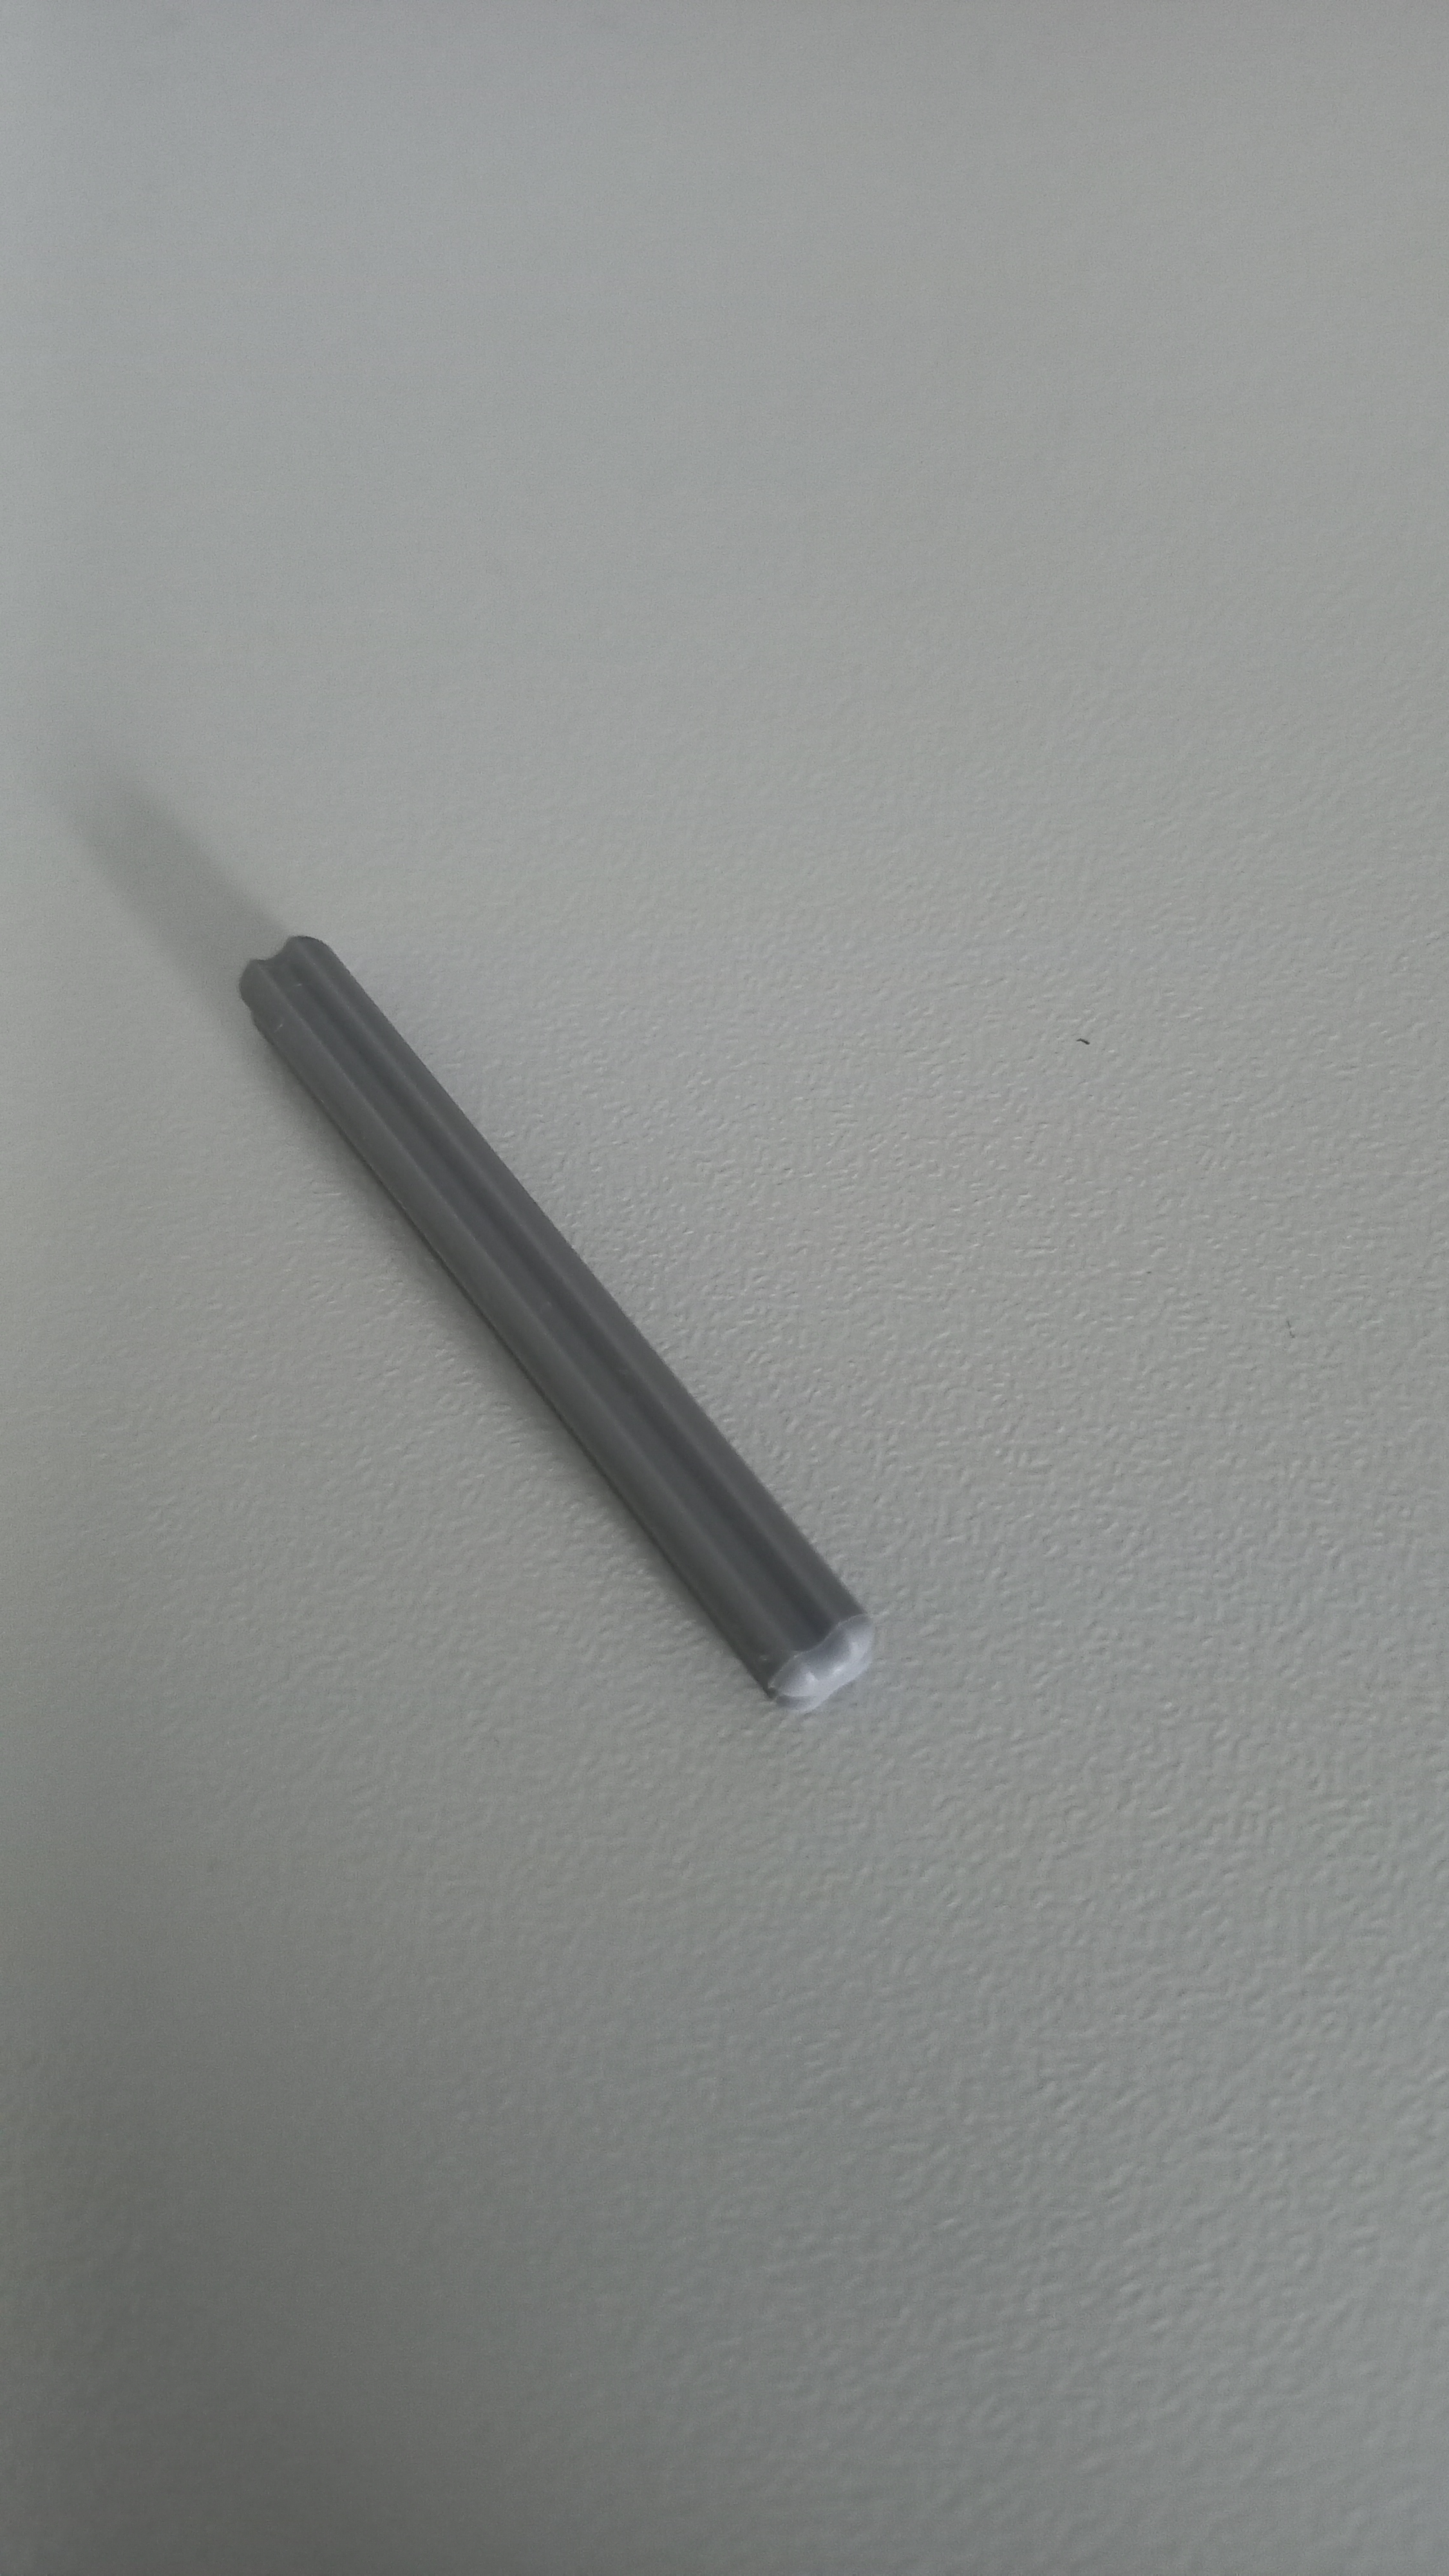Grau_kurz: (216, 913, 909, 1780)
